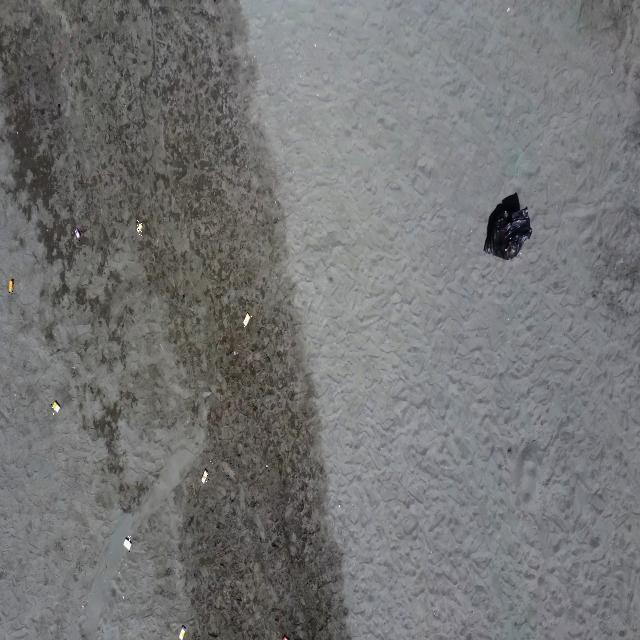retort-pouch: (50, 398, 60, 416), (200, 467, 209, 485), (243, 311, 252, 327), (136, 220, 144, 236), (124, 536, 132, 552), (74, 227, 82, 241), (8, 274, 14, 292), (180, 625, 186, 640), (284, 633, 289, 640)
